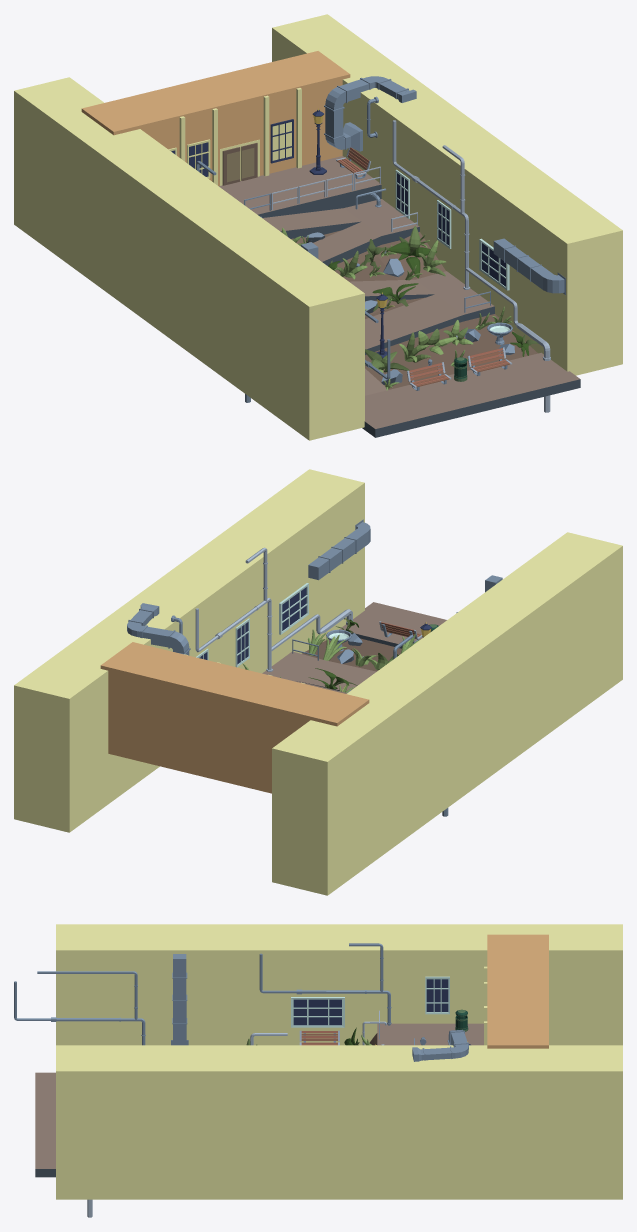
The model's file is First_Level_Fixed.fbx.
3 views of the same model, one above another, from view 1: azimuth 30°, elevation 25°; view 2: azimuth 150°, elevation 25°; view 3: azimuth 270°, elevation 25° (orthographic). The views are drawn at different scales.
Parts seen in each view (by area): view 1: Cube.002, Cube.001, Path, Cube.004, Cube.008, Airvent2_1, Tube1_4, Airvent1_1.001, Flat Leaf Plant.008, Door1_1, Window_Glass1_2, Door1_1.001; view 2: Cube.002, Cube.001, Cube.004, Path, Tube1_4, Airvent1_1.001, Airvent2_1, Cube.008, Window_Frame1_1.004; view 3: Cube.001, Cube.002, Cube.004, Path, Airvent1_1, Tube1_4.002, Window_Glass1_1.003, Tube1_4.001, Airvent2_1, Window_Frame1_1.003, Window_Glass1_1.002, Window_Frame1_1.002.
Boxes of the visible parts, bbox=[...] form: Cube.002: bbox=[14, 77, 364, 440]; Cube.001: bbox=[272, 14, 622, 375]; Path: bbox=[219, 156, 580, 437]; Cube.004: bbox=[81, 51, 350, 185]; Cube.008: bbox=[291, 230, 537, 389]; Airvent2_1: bbox=[324, 76, 416, 151]; Tube1_4: bbox=[392, 120, 550, 412]; Airvent1_1.001: bbox=[493, 238, 565, 294]; Flat Leaf Plant.008: bbox=[388, 226, 436, 278]; Door1_1: bbox=[222, 147, 240, 185]; Window_Glass1_2: bbox=[272, 122, 291, 160]; Door1_1.001: bbox=[241, 143, 257, 180]; Cube.002: bbox=[272, 532, 622, 895]; Cube.001: bbox=[14, 469, 364, 832]; Cube.004: bbox=[100, 642, 369, 793]; Path: bbox=[262, 602, 446, 693]; Tube1_4: bbox=[195, 547, 353, 671]; Airvent1_1.001: bbox=[308, 519, 370, 580]; Airvent2_1: bbox=[127, 603, 190, 655]; Cube.008: bbox=[302, 638, 401, 671]; Window_Frame1_1.004: bbox=[279, 583, 308, 634]; Cube.001: bbox=[56, 1045, 622, 1199]; Cube.002: bbox=[56, 924, 622, 1045]; Cube.004: bbox=[487, 934, 548, 1048]; Path: bbox=[35, 1023, 483, 1177]; Airvent1_1: bbox=[171, 954, 188, 1045]; Tube1_4.002: bbox=[14, 971, 145, 1045]; Window_Glass1_1.003: bbox=[293, 999, 341, 1025]; Tube1_4.001: bbox=[259, 943, 391, 1025]; Airvent2_1: bbox=[412, 1029, 468, 1061]; Window_Frame1_1.003: bbox=[291, 997, 344, 1027]; Window_Glass1_1.002: bbox=[426, 979, 448, 1011]; Window_Frame1_1.002: bbox=[425, 976, 449, 1014].
Size of the model in its own units: 4327 by 2741 by 7583.
